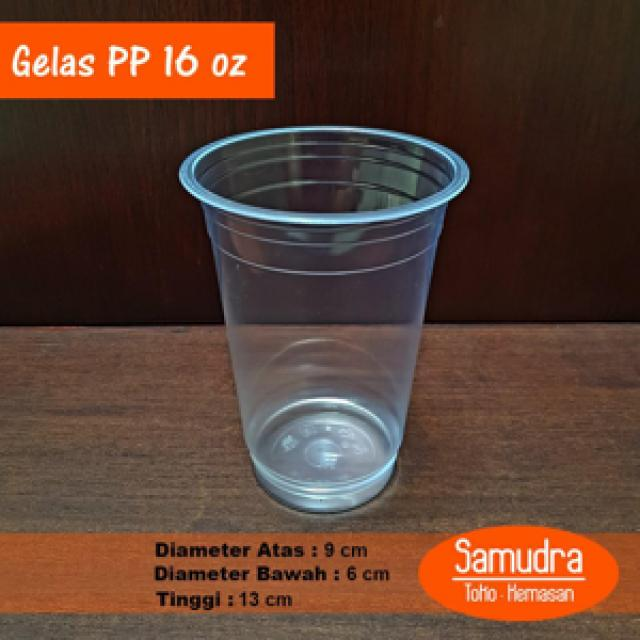plastic cup: (171, 117, 482, 525)
